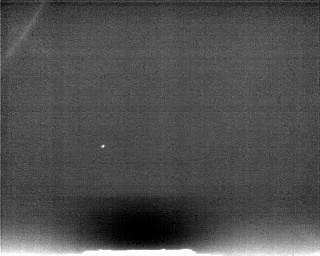BIRD: (99, 142, 107, 151)
